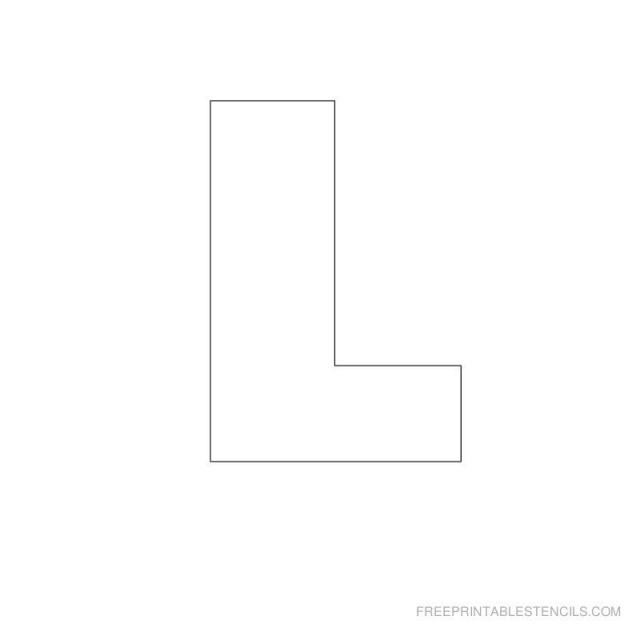L: (174, 57, 507, 528)
